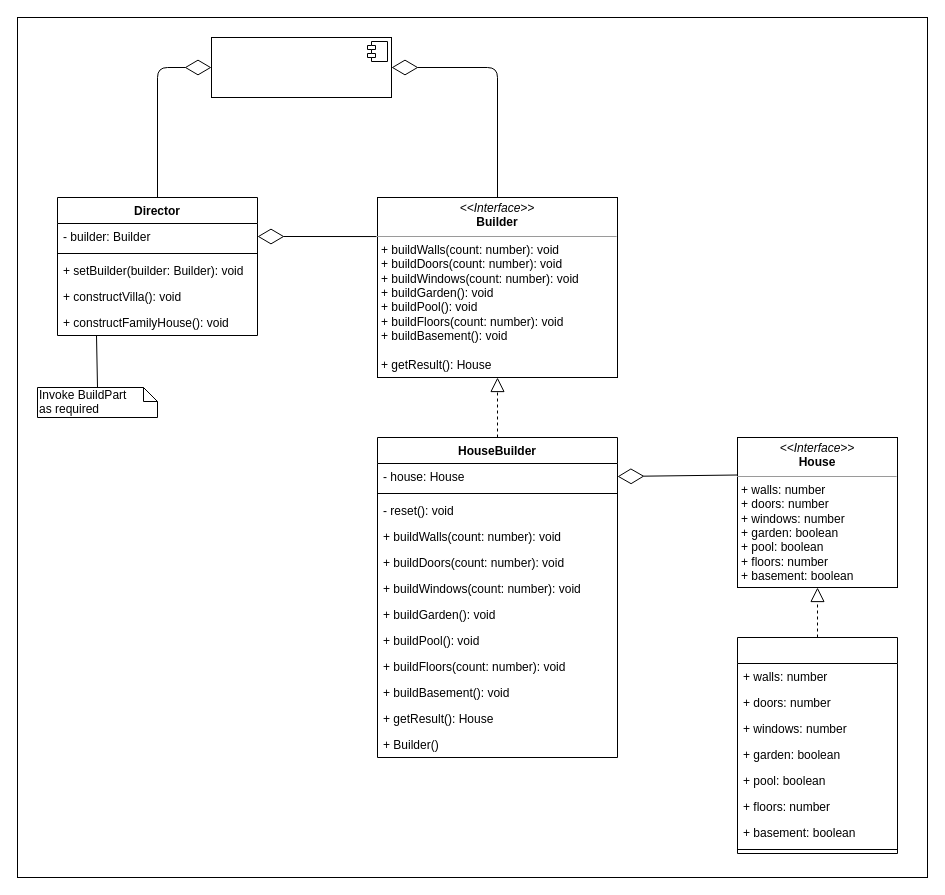
Image size: 945x895. Some labels were removed from this diagram. The box of each missing label's shape, as (x1, y1, x2, y2) in pixels:
BuilderComponent: (210, 36, 392, 98)
HouseModel: (736, 636, 898, 854)
